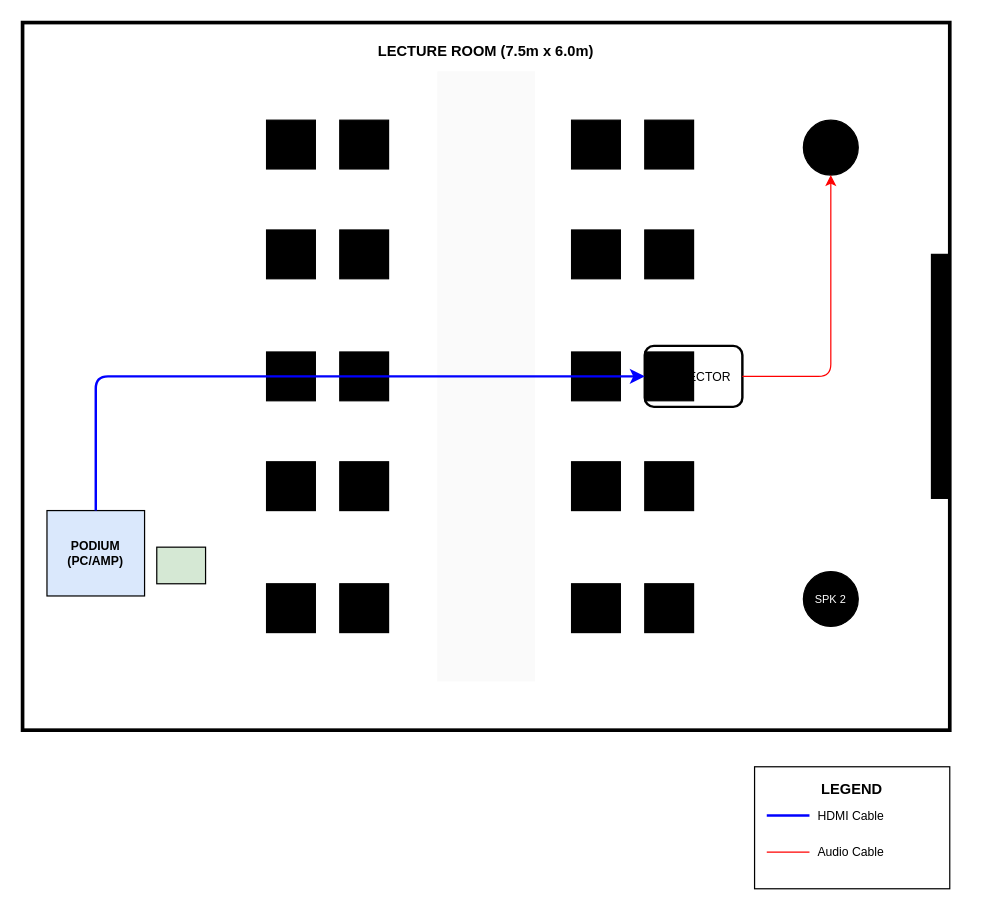
This 992x910 diagram has some shape labels left out. Here are the shapes that lost their labels. From the top down, the centre of each, then its label:
At (830,147): "SPK 1".
At (940,375): "SCREEN".
At (181,565): "CTRL".
